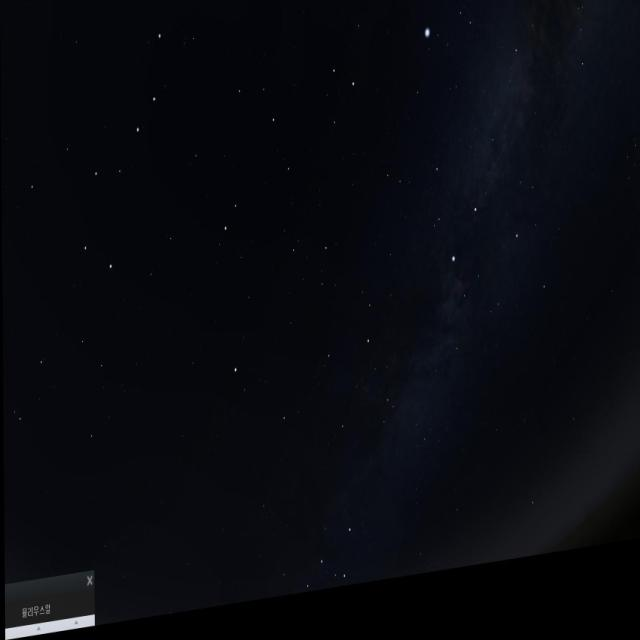cygnus: (412, 67, 525, 306)
lyra: (413, 8, 480, 83)
ursa_major: (72, 31, 166, 281)
